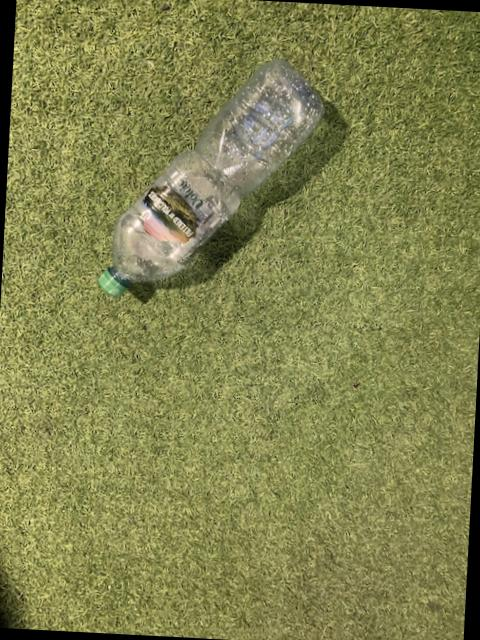plastic: (100, 62, 324, 298)
